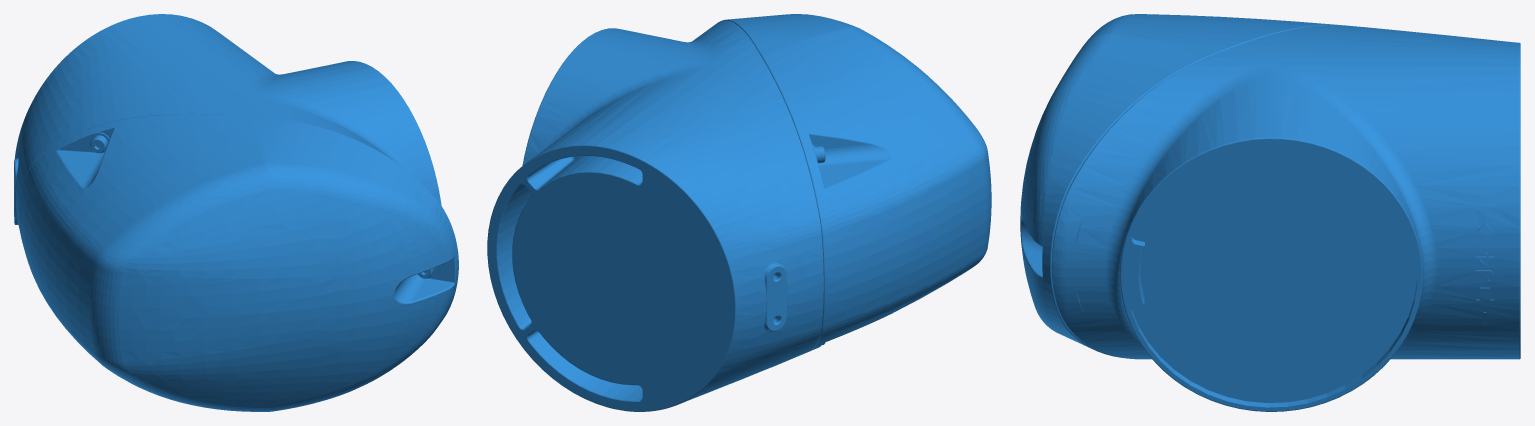
The model's file is EpsonVT6LLink3.dae.
3 views of the same model, side by side, from view 1: azimuth 30°, elevation 25°; view 2: azimuth 150°, elevation 25°; view 3: azimuth 270°, elevation 25° (orthographic). The views are drawn at different scales.
Visible parts, largest first — view 1: epson_link3; view 2: epson_link3; view 3: epson_link3.
Boxes of the visible parts, box(x1,y1,x2,y2) form: epson_link3: box(14, 14, 458, 411); epson_link3: box(487, 14, 991, 411); epson_link3: box(1020, 14, 1520, 411).
Bounding box in the file's own units: 0.1679 × 0.1897 × 0.12.
